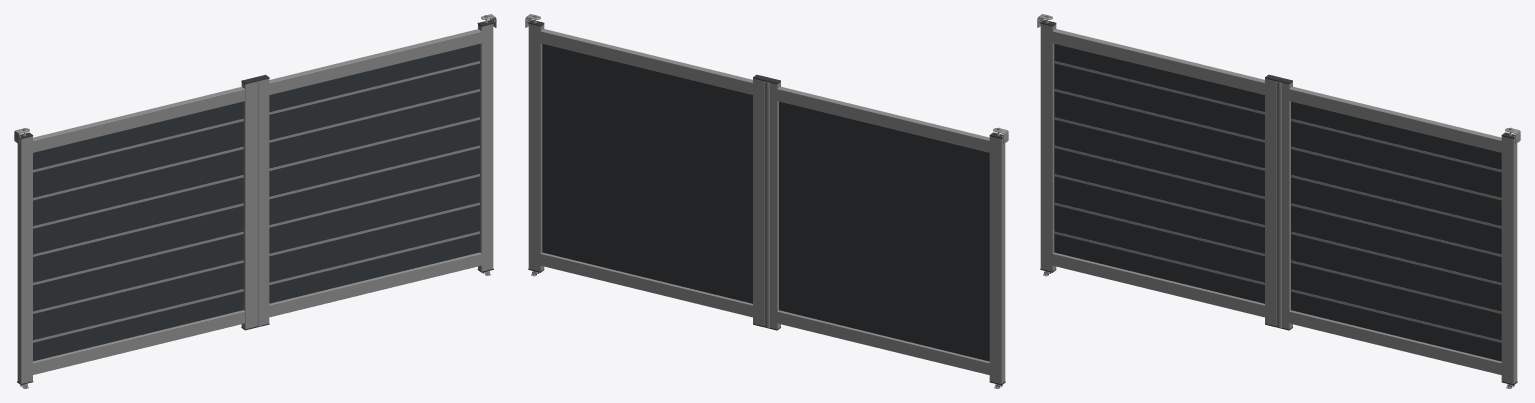
The picture shows the model from 3 angles, left to right: view 1: azimuth 30°, elevation 25°; view 2: azimuth 150°, elevation 25°; view 3: azimuth 330°, elevation 25°; orthographic projection.
Visible parts, largest first — view 1: Chapa Alucobond018, Chapa Alucobond037, Shape107412643, Shape107412740, Shape107412638, Shape107412754, Shape107412564, Shape107412755, Shape107412565, Shape107412739, Shape107412637, Line004 (+13 smaller); view 2: Chapa Alucobond018, Chapa Alucobond037, Shape107412643, Shape107412740, Shape107412564, Shape107412754, Shape107412755, Shape107412565, Shape107412739, Shape107412638, Shape107412738; view 3: Chapa Alucobond037, Chapa Alucobond018, Shape107412740, Shape107412643, Shape107412754, Shape107412564, Shape107412755, Shape107412565, Shape107412638, Shape107412739, Shape107412637, Line042 (+13 smaller).
Part boxes in pixels (<box>): Chapa Alucobond018: <box>33,101,243,361</box>; Chapa Alucobond037: <box>269,44,479,303</box>; Shape107412643: <box>17,136,32,383</box>; Shape107412740: <box>478,24,493,271</box>; Shape107412638: <box>241,81,256,329</box>; Shape107412754: <box>269,29,481,94</box>; Shape107412564: <box>33,87,244,152</box>; Shape107412755: <box>269,252,481,317</box>; Shape107412565: <box>33,310,244,374</box>; Shape107412739: <box>258,78,269,324</box>; Shape107412637: <box>257,81,261,326</box>; Line004: <box>33,146,243,200</box>; Chapa Alucobond018: <box>779,101,989,361</box>; Chapa Alucobond037: <box>542,43,752,303</box>; Shape107412643: <box>989,136,1005,383</box>; Shape107412740: <box>528,24,544,271</box>; Shape107412564: <box>777,86,989,152</box>; Shape107412754: <box>540,29,752,94</box>; Shape107412755: <box>540,252,752,317</box>; Shape107412565: <box>777,310,989,374</box>; Shape107412739: <box>753,78,764,326</box>; Shape107412638: <box>765,81,780,329</box>; Shape107412738: <box>765,81,769,327</box>; Chapa Alucobond037: <box>1291,101,1501,361</box>; Chapa Alucobond018: <box>1054,44,1264,303</box>; Shape107412740: <box>1501,136,1517,383</box>; Shape107412643: <box>1040,24,1056,271</box>; Shape107412754: <box>1289,86,1501,152</box>; Shape107412564: <box>1052,29,1264,94</box>; Shape107412755: <box>1289,310,1501,374</box>; Shape107412565: <box>1052,252,1264,317</box>; Shape107412638: <box>1265,78,1276,326</box>; Shape107412739: <box>1277,81,1292,329</box>; Shape107412637: <box>1277,81,1281,327</box>; Line042: <box>1291,118,1501,172</box>.
Bounding box in the file's own units: 3260 × 1688 × 68.93.
5 materials, 2 textured.
